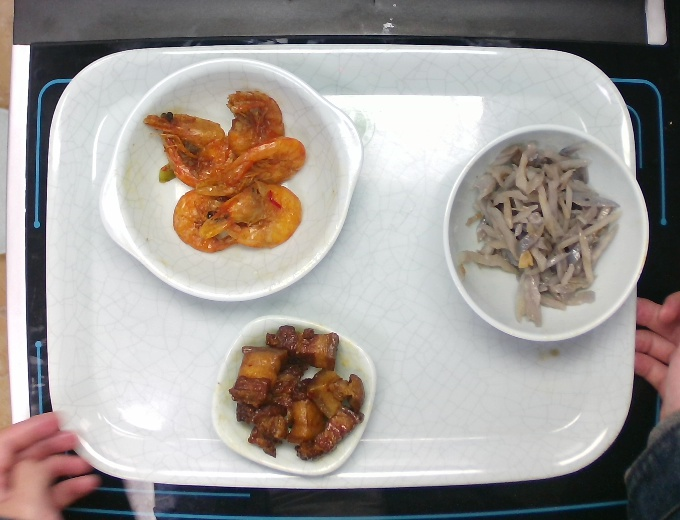JYsf-Fan_Wan: (437, 119, 652, 350)
JYsf-Shuang_Er_Wan: (90, 52, 367, 306)
JYsf-Si_Fang_Die: (202, 309, 378, 485)
